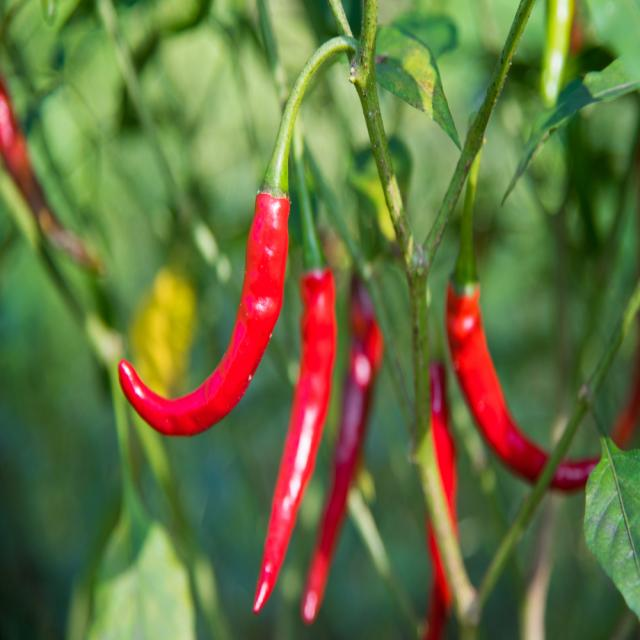Ripe: (119, 193, 290, 436), (444, 279, 599, 499), (254, 270, 336, 611)
